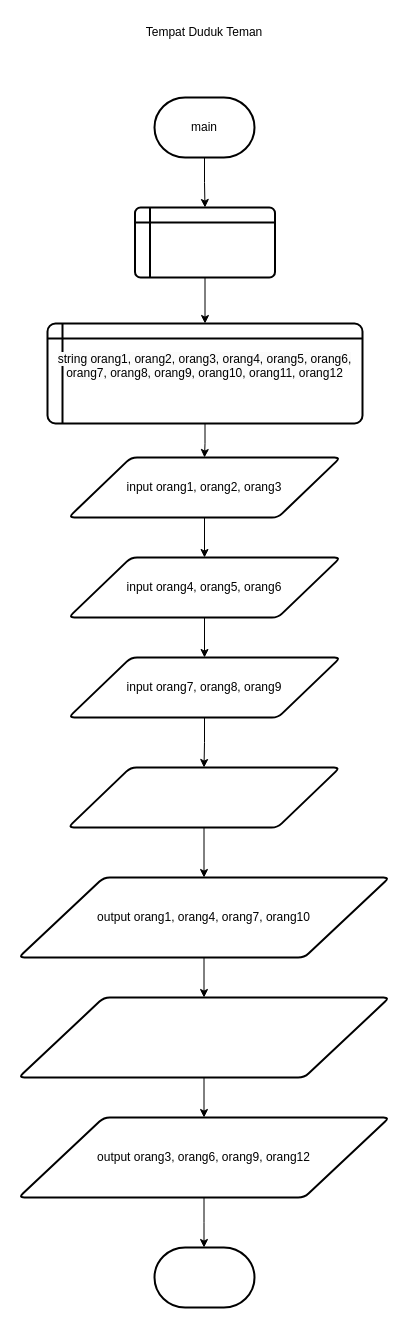
Some shapes in this 407 by 1325 pixel diagram are drawn without their labels. The centre of each missing label's shape, as x and y in pixels:
"end" goes at (204,1277).
"input orang10, orang11, orang12" goes at (203,797).
"output orang2, orang5, orang8, orang11" goes at (203,1037).
"tipe data string" goes at (205,242).
